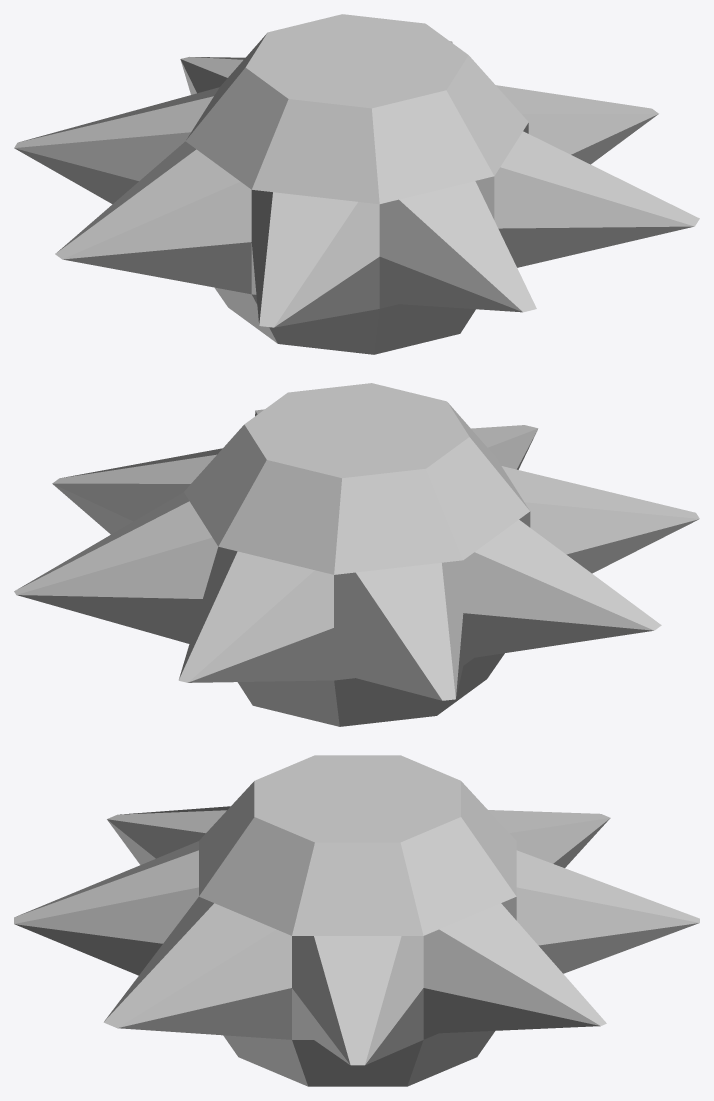
The model's file is spikey.glb.
3 renders of one model, top to bottom at view 1: azimuth 30°, elevation 25°; view 2: azimuth 150°, elevation 25°; view 3: azimuth 270°, elevation 25°, orthographic.
Visible parts, largest first — view 1: Cylinder; view 2: Cylinder; view 3: Cylinder.
Boxes of the visible parts, bbox=[...] form: Cylinder: bbox=[14, 14, 699, 354]; Cylinder: bbox=[14, 383, 699, 726]; Cylinder: bbox=[14, 755, 699, 1086].
Size of the model in its own units: 3.98 by 1.52 by 3.99.
1 material, 1 textured.
